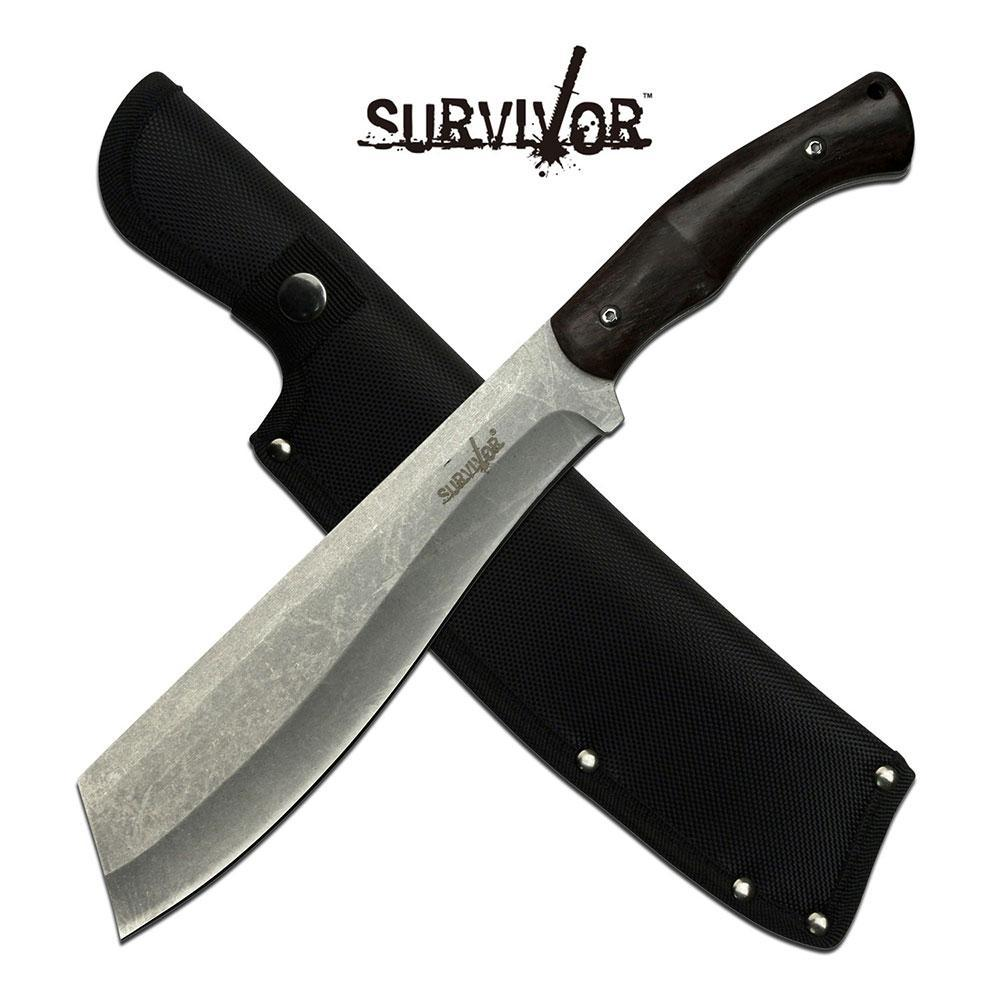facao: (79, 73, 914, 938)
